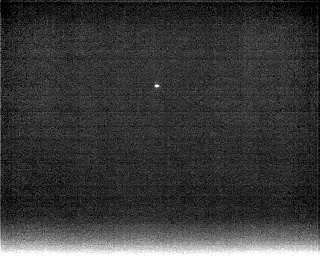AIRPLANE: (153, 82, 161, 90)
